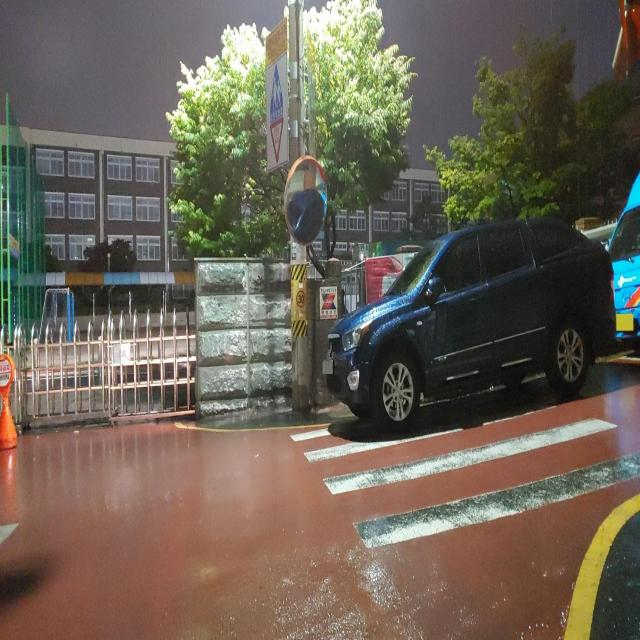횡단보도: (288, 391, 640, 552)
